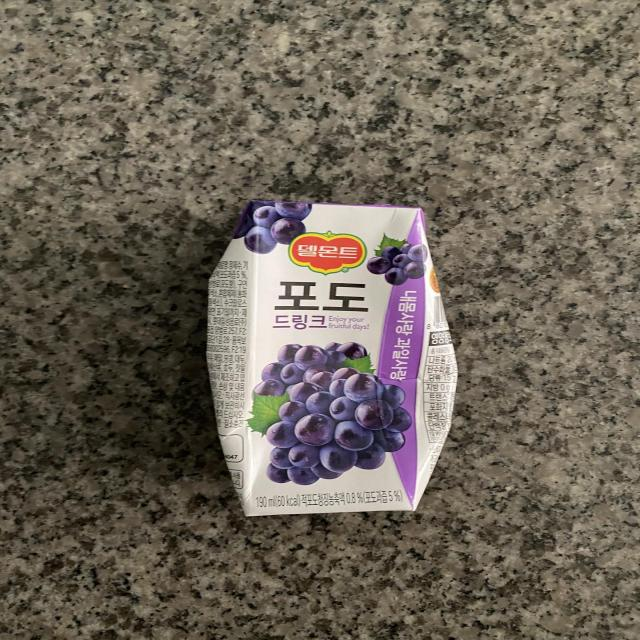paperpack: (206, 200, 458, 517)
